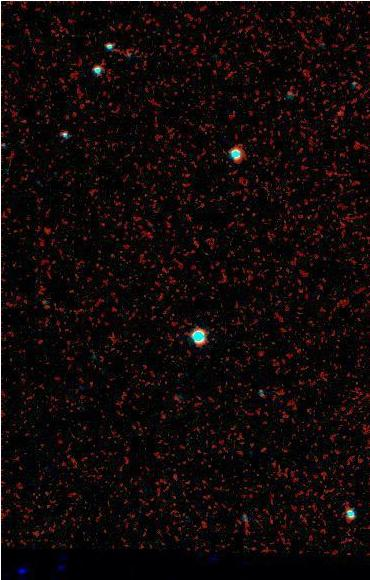star: (323, 96, 353, 126)
